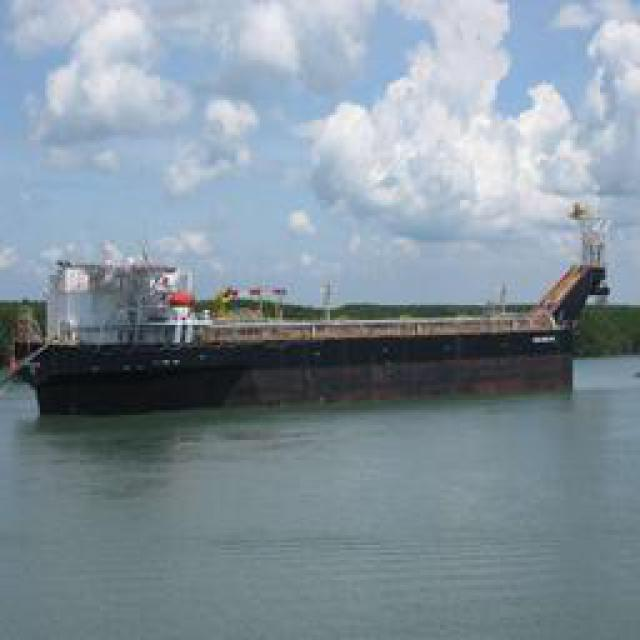Ship: (14, 247, 609, 417)
